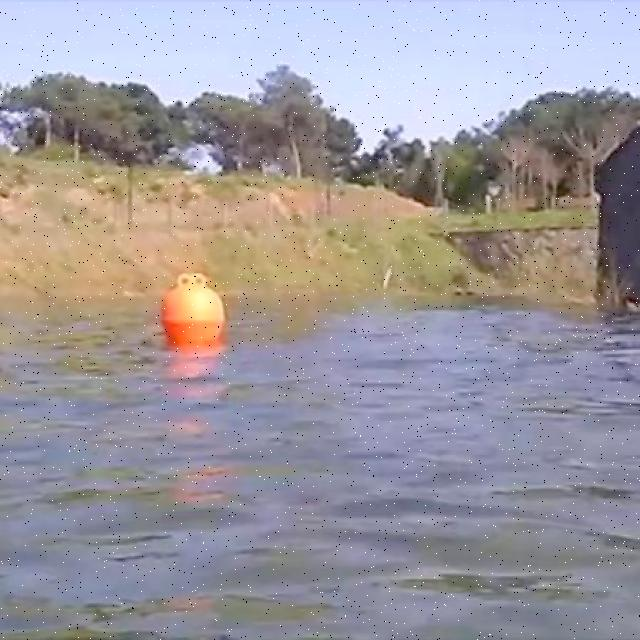buoy: (163, 271, 227, 343)
